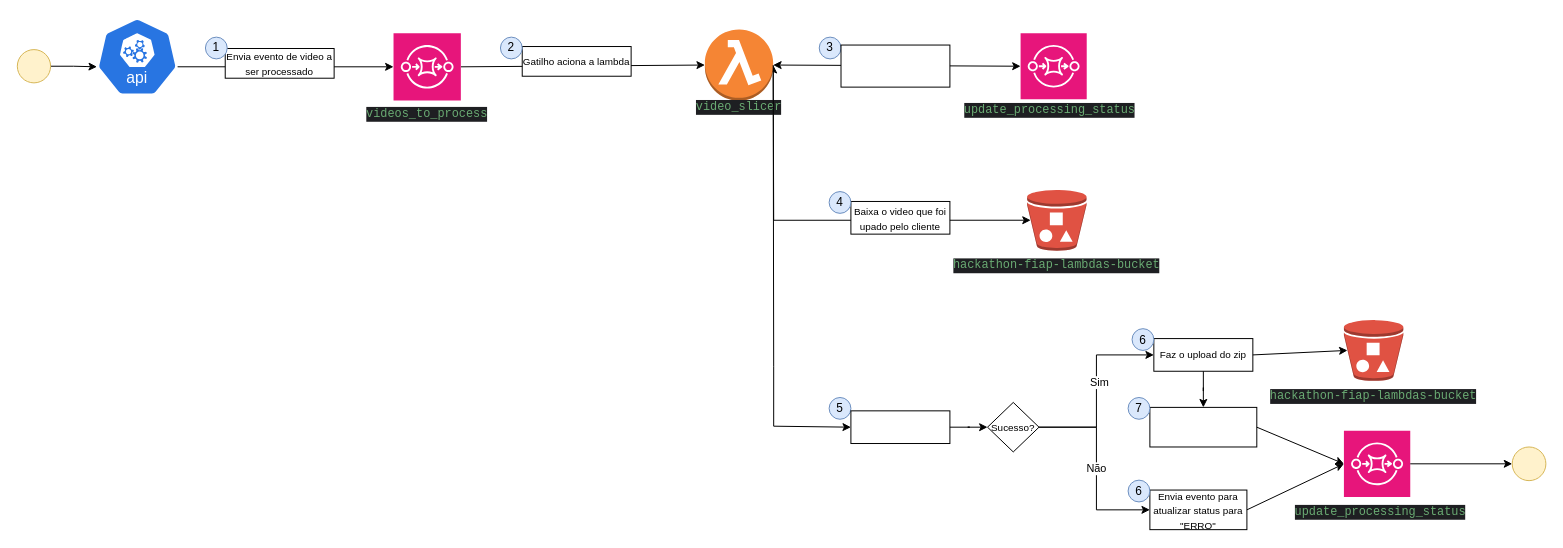
Image size: 1563x548. Some labels were removed from this diagram. Each missing label, with the box of its shape:
Envia evento para atualizar status para "PROCESSADO": (1149, 406, 1257, 447)
Envia evento para atualizar status para "PROCESSANDO": (840, 44, 950, 87)
Fim: (1511, 446, 1546, 481)
Inicio: (16, 49, 51, 83)
Processa vídeo e zipa as thumbnails: (850, 410, 950, 444)
videos/: (1026, 189, 1087, 251)
zip/: (1343, 319, 1403, 381)
